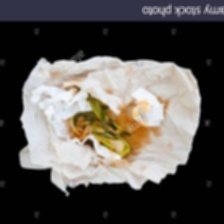tissue: (12, 49, 208, 201)
